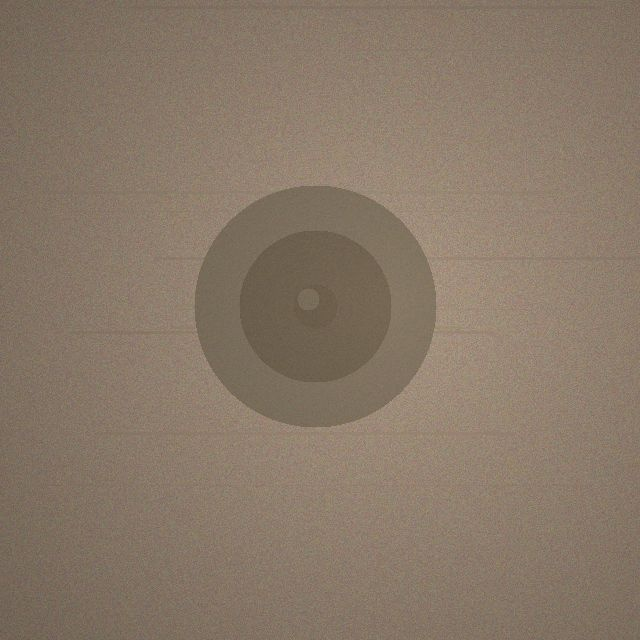good: (194, 185, 436, 427)
